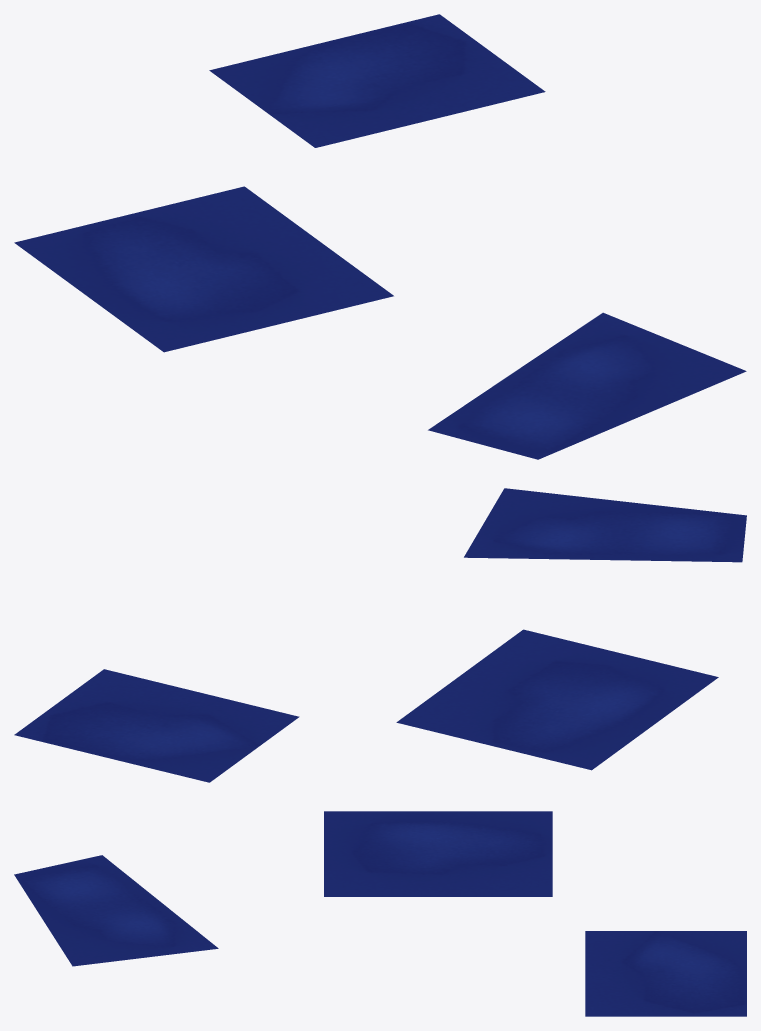
The model's file is Water_01.FBX.
3 views of the same model, one above another, from view 1: azimuth 30°, elevation 25°; view 2: azimuth 150°, elevation 25°; view 3: azimuth 270°, elevation 25° (orthographic). The views are drawn at different scales.
Parts seen in each view (by area): view 1: Water_01; view 2: Water_01; view 3: Water_01.
Part boxes in pixels (x1,y1,x2,y2): Water_01: (14,14,746,459); Water_01: (14,488,746,782); Water_01: (14,811,746,1016).
Bounding box in the file's own units: 12.55 × 1.11e-15 × 18.9.
